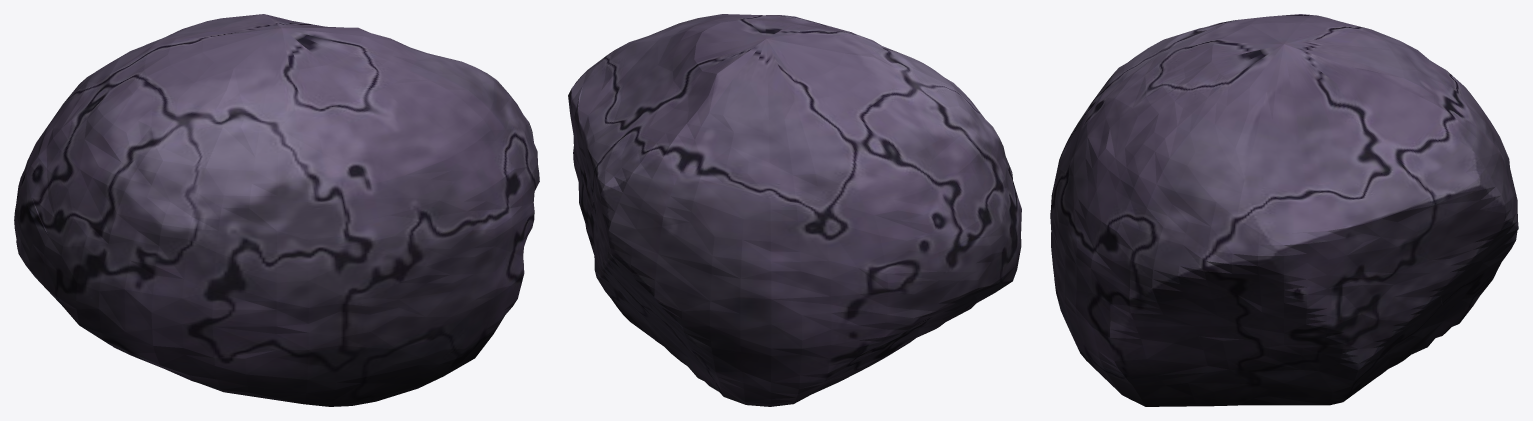
The model's file is rocha_a_v01.glb.
The picture shows the model from 3 angles, left to right: view 1: azimuth 30°, elevation 25°; view 2: azimuth 150°, elevation 25°; view 3: azimuth 270°, elevation 25°; orthographic projection. The views are drawn at different scales.
Parts seen in each view (by area): view 1: rocha_a; view 2: rocha_a; view 3: rocha_a.
Boxes of the visible parts, bbox=[...] form: rocha_a: bbox=[14, 14, 539, 406]; rocha_a: bbox=[568, 14, 1021, 406]; rocha_a: bbox=[1050, 14, 1518, 406].
Size of the model in its own units: 1.41 by 0.9063 by 1.27.
1 material, 1 textured.
